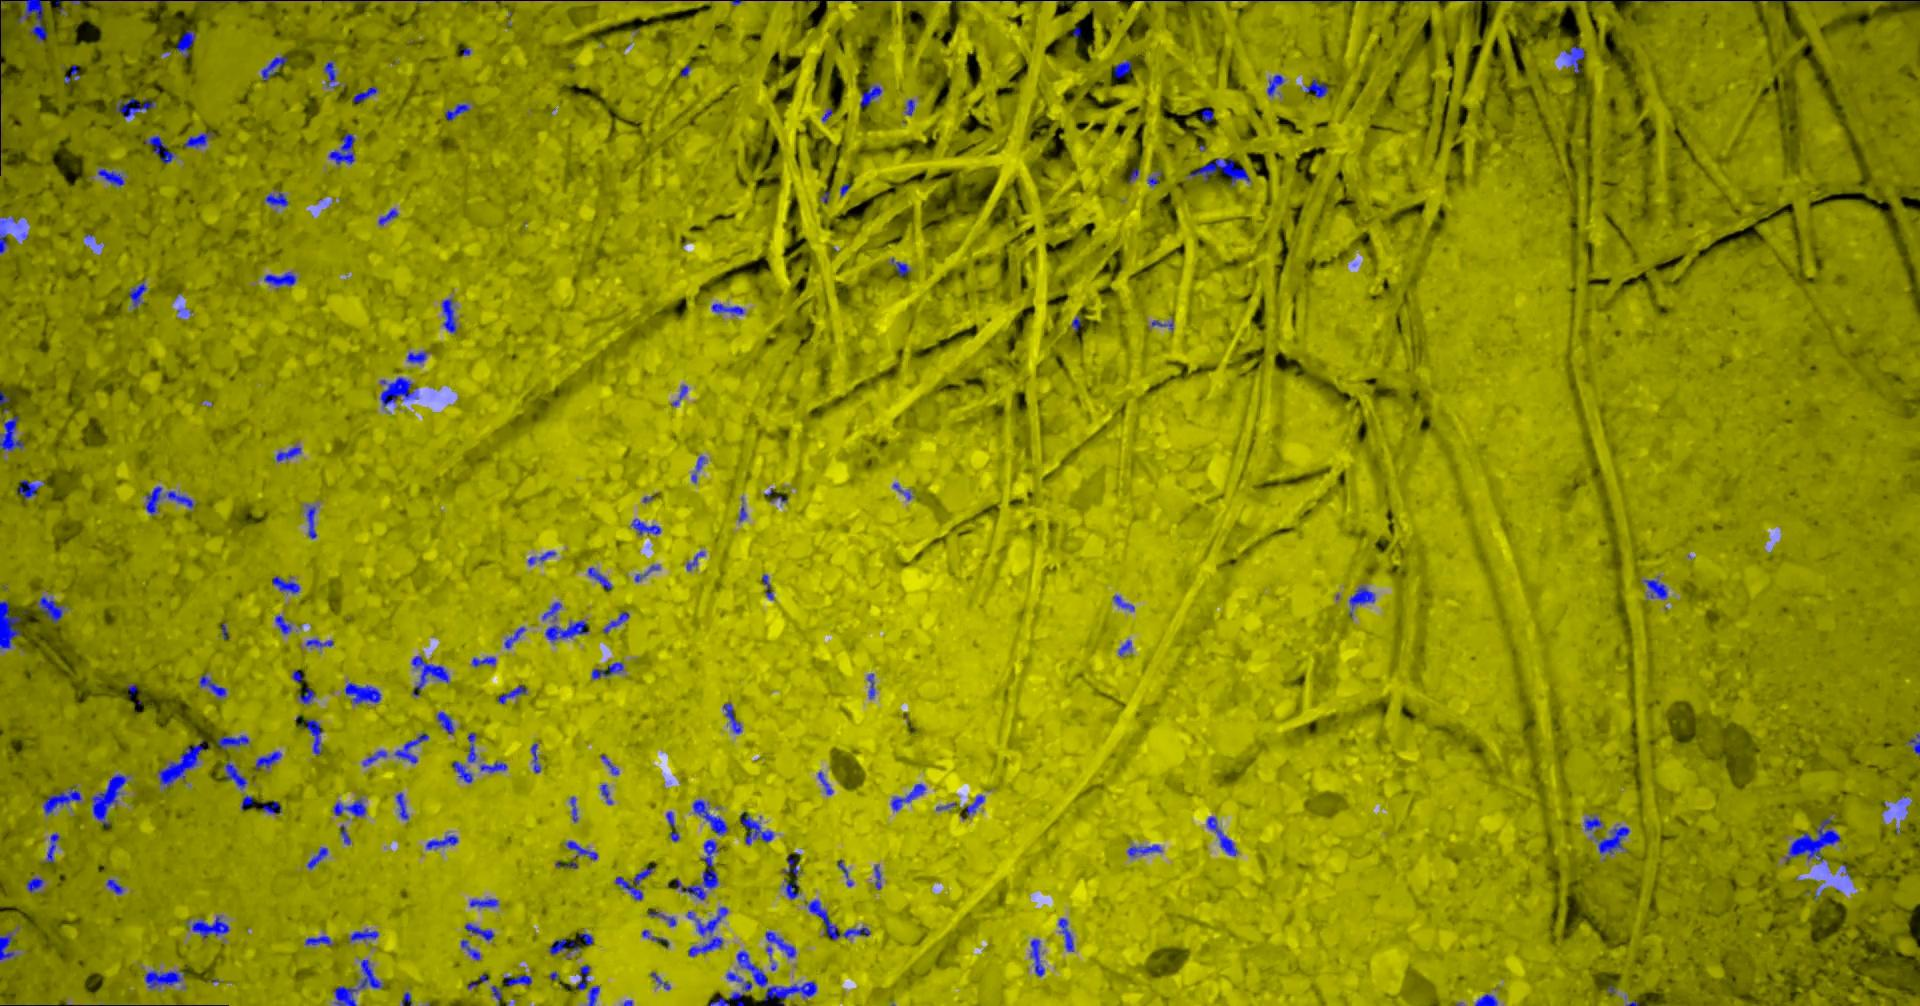ant: (1787, 817, 1843, 862), (677, 840, 719, 899), (809, 899, 872, 939), (160, 739, 210, 788), (335, 959, 383, 1005), (688, 906, 729, 956), (93, 774, 130, 826), (1189, 158, 1251, 185), (413, 655, 451, 695), (147, 486, 196, 514), (19, 0, 52, 41), (616, 868, 657, 901), (1208, 815, 1239, 855), (695, 799, 729, 835), (381, 376, 420, 406), (44, 785, 83, 815), (1, 600, 23, 649), (742, 812, 775, 843), (396, 733, 430, 763), (891, 782, 927, 810), (188, 915, 231, 937), (546, 620, 590, 641), (578, 964, 601, 1005), (1597, 826, 1630, 854), (1, 415, 25, 451), (146, 135, 177, 163), (301, 718, 324, 754), (1350, 586, 1377, 616), (767, 931, 797, 958), (117, 97, 156, 117), (330, 133, 356, 164), (345, 682, 382, 702), (783, 855, 800, 898), (263, 55, 290, 81), (41, 594, 66, 622), (146, 970, 185, 988), (201, 673, 229, 697), (566, 840, 599, 860), (1643, 575, 1669, 600), (225, 762, 248, 789), (1564, 44, 1586, 72), (724, 702, 743, 733), (1031, 937, 1046, 976), (334, 799, 368, 815), (1059, 917, 1076, 951), (265, 271, 297, 288), (593, 661, 625, 678), (1, 216, 17, 253), (589, 567, 613, 589), (604, 611, 630, 633), (178, 29, 197, 57), (18, 479, 46, 498), (551, 937, 583, 954), (499, 685, 528, 702), (273, 575, 301, 593), (861, 84, 883, 107), (185, 132, 217, 147), (130, 282, 149, 307), (632, 518, 662, 535), (466, 923, 495, 940), (257, 751, 283, 768), (505, 626, 527, 648), (1307, 77, 1330, 98), (443, 298, 457, 332), (99, 168, 124, 185), (1128, 843, 1163, 856), (218, 735, 250, 749), (427, 835, 458, 848), (277, 445, 303, 461), (650, 909, 677, 926), (309, 846, 329, 868), (455, 760, 474, 782), (325, 58, 340, 86), (667, 810, 681, 841), (1, 931, 17, 959), (446, 103, 471, 119), (636, 564, 662, 580), (839, 860, 855, 887), (364, 749, 389, 766), (353, 86, 378, 102), (891, 257, 912, 276), (462, 939, 481, 959), (651, 970, 672, 989), (672, 384, 690, 405), (968, 794, 985, 815), (712, 304, 745, 315), (438, 711, 455, 734), (47, 833, 60, 862), (350, 929, 380, 941), (265, 191, 290, 206), (687, 551, 706, 570), (1269, 74, 1285, 95), (530, 551, 557, 564), (1114, 594, 1137, 610), (819, 771, 834, 794), (1115, 58, 1133, 77), (543, 601, 563, 619), (276, 615, 293, 634), (602, 754, 620, 774), (397, 793, 410, 819), (505, 974, 533, 986), (65, 64, 81, 83), (763, 573, 775, 600), (481, 761, 508, 772), (532, 743, 542, 772), (309, 506, 317, 539), (380, 208, 399, 224), (307, 638, 335, 648), (601, 784, 615, 804), (306, 935, 334, 945), (263, 800, 284, 813), (300, 687, 317, 702), (469, 732, 477, 762), (1476, 993, 1498, 1005), (471, 898, 500, 907), (408, 351, 428, 363), (28, 876, 44, 892), (108, 879, 124, 894), (1585, 815, 1603, 829), (1909, 733, 1920, 754), (472, 655, 497, 666), (1120, 639, 1133, 655), (493, 984, 503, 1005), (869, 673, 876, 699), (875, 864, 883, 889), (571, 796, 579, 821), (342, 826, 352, 843), (1203, 108, 1215, 122), (580, 934, 596, 945), (905, 99, 916, 116), (710, 997, 731, 1005), (243, 795, 254, 809)
